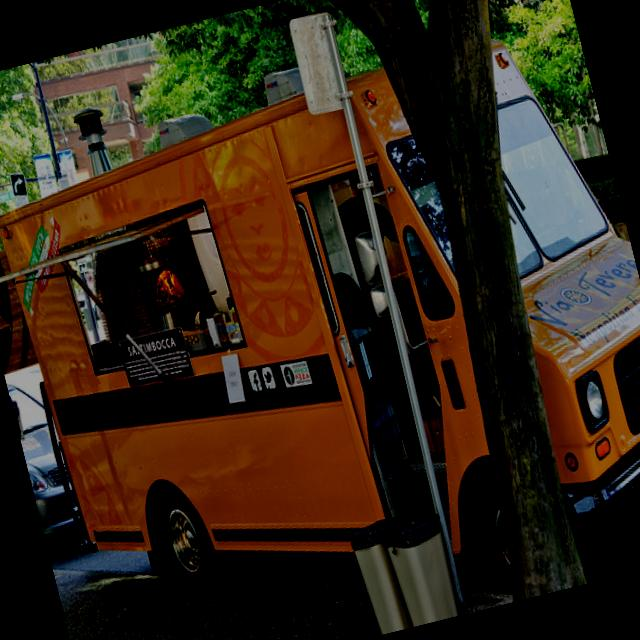Vehicle: (0, 10, 640, 640), (0, 18, 640, 640), (4, 366, 80, 559)
